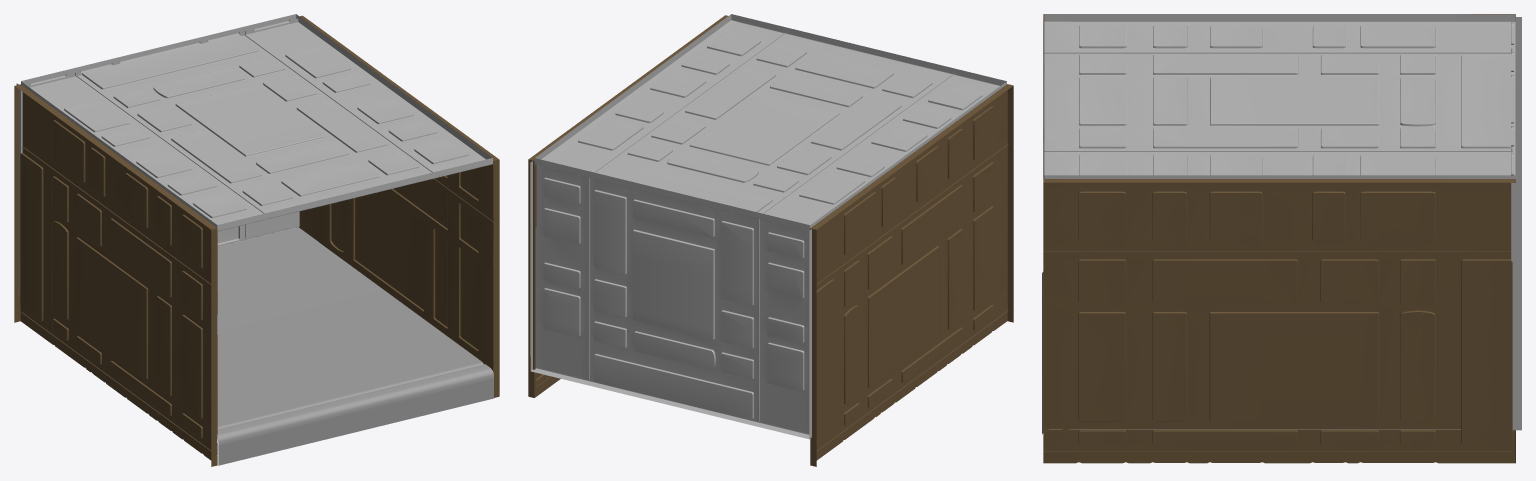
Rendered from caja.glb.
3 views of the same model, side by side, from view 1: azimuth 30°, elevation 25°; view 2: azimuth 150°, elevation 25°; view 3: azimuth 270°, elevation 25° (orthographic). The views are drawn at different scales.
Visible parts, largest first — view 1: caja; view 2: caja; view 3: caja.
Boxes of the visible parts, x1,y1,x2,y2 form: caja: (14,14,499,466); caja: (528,14,1013,466); caja: (1042,14,1521,463).
Bounding box in the file's own units: 7.48 × 5.95 × 8.99.
Materials: 3 (1 with a texture image).
